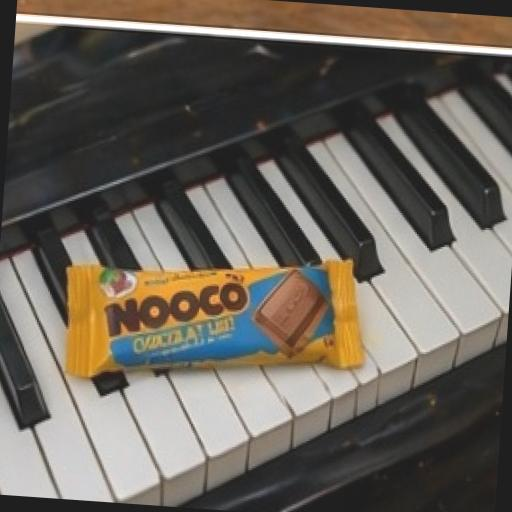biscuit-detection: (34, 222, 375, 404)
